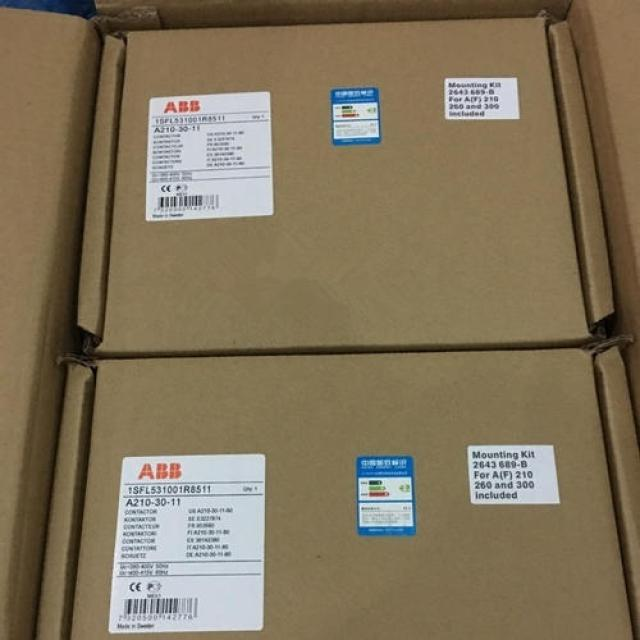box: (35, 332, 640, 640), (78, 9, 614, 356)
